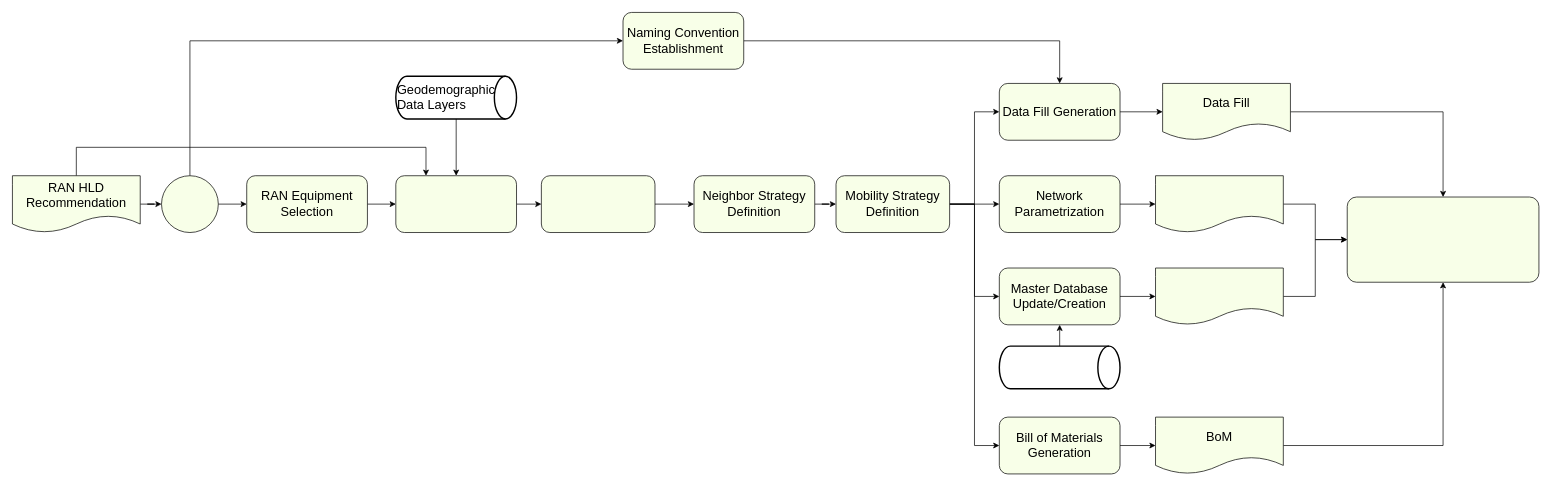
Image size: 1551x486. Some labels were removed from this diagram. The centre of each missing label's shape, as x and y in pixels:
"Baseline (One per network)" belongs at (1219,204).
"Master Database (from Overlay)" belongs at (1059,367).
"RAN LLD Recommendation" belongs at (1443,239).
"RF Planning Strategy Definition" belongs at (598,204).
"Site Configuration Refinement" belongs at (456,204).
"Updated Master Database" belongs at (1219,296).
